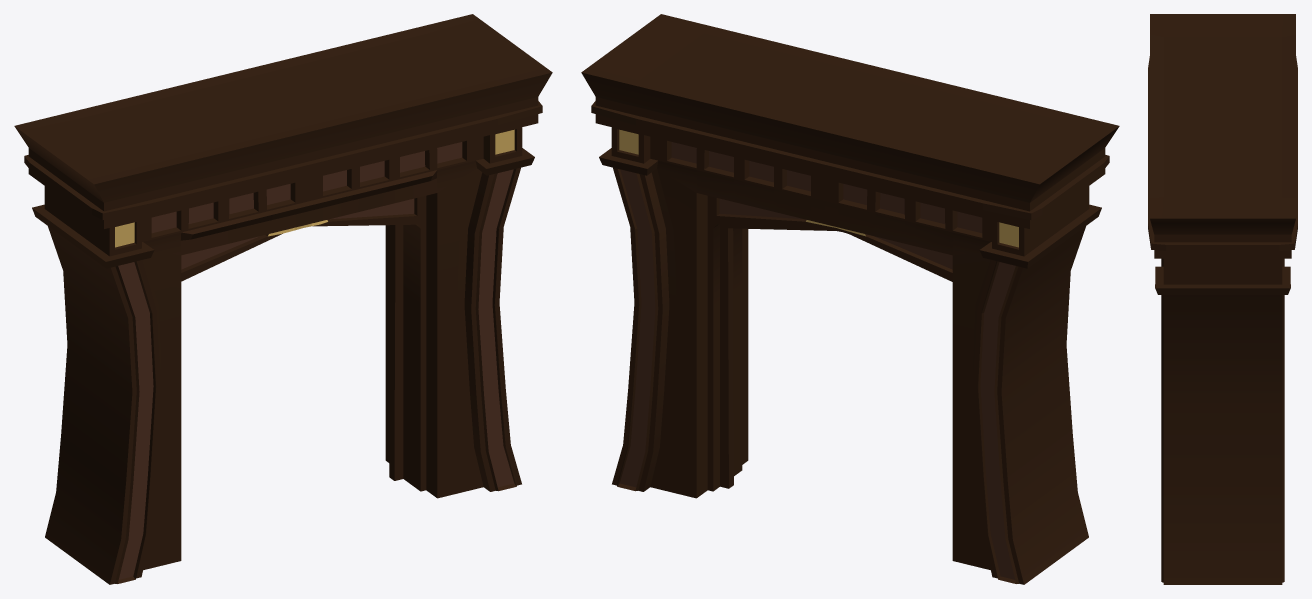
Rendered from MiscDoorFrameUV.fbx.
3 renders of one model, left to right at view 1: azimuth 30°, elevation 25°; view 2: azimuth 150°, elevation 25°; view 3: azimuth 270°, elevation 25°, orthographic. The views are drawn at different scales.
Visible parts, largest first — view 1: frame; view 2: frame; view 3: frame.
Part boxes in pixels (<box>): frame: <box>14,14,552,584</box>; frame: <box>581,14,1119,584</box>; frame: <box>1148,14,1297,584</box>.
Size of the model in its own units: 436 by 374 by 135.
